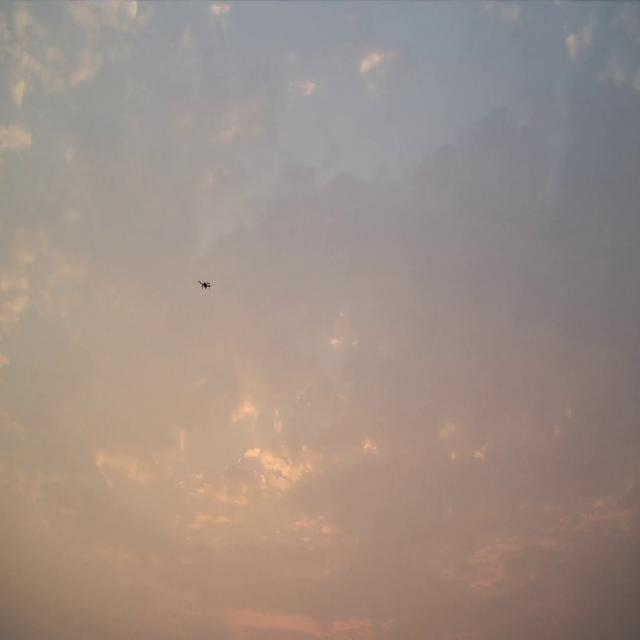drone: (198, 280, 212, 290)
